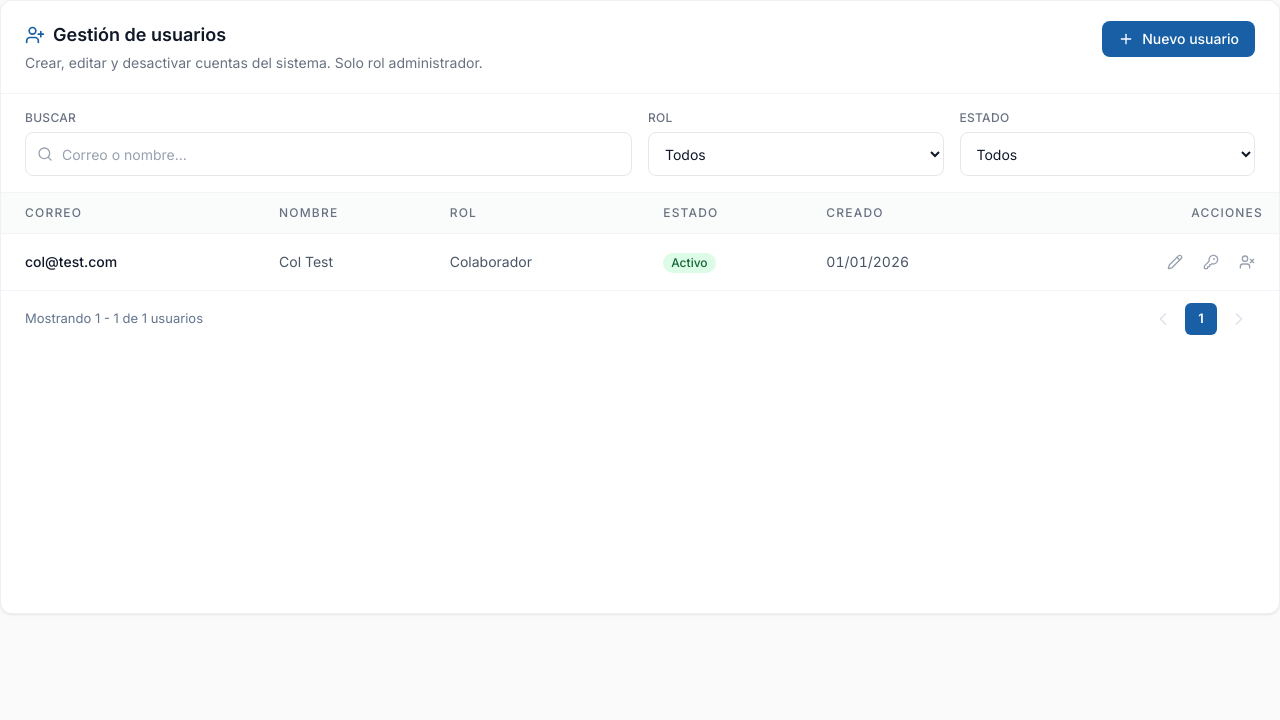
Test: UsuariosAdminPanel › muestra éxito tras actualizar usuario
Click the button named "editar col@test.com" at (1175, 262), box left=1159, top=246, right=1191, bottom=278
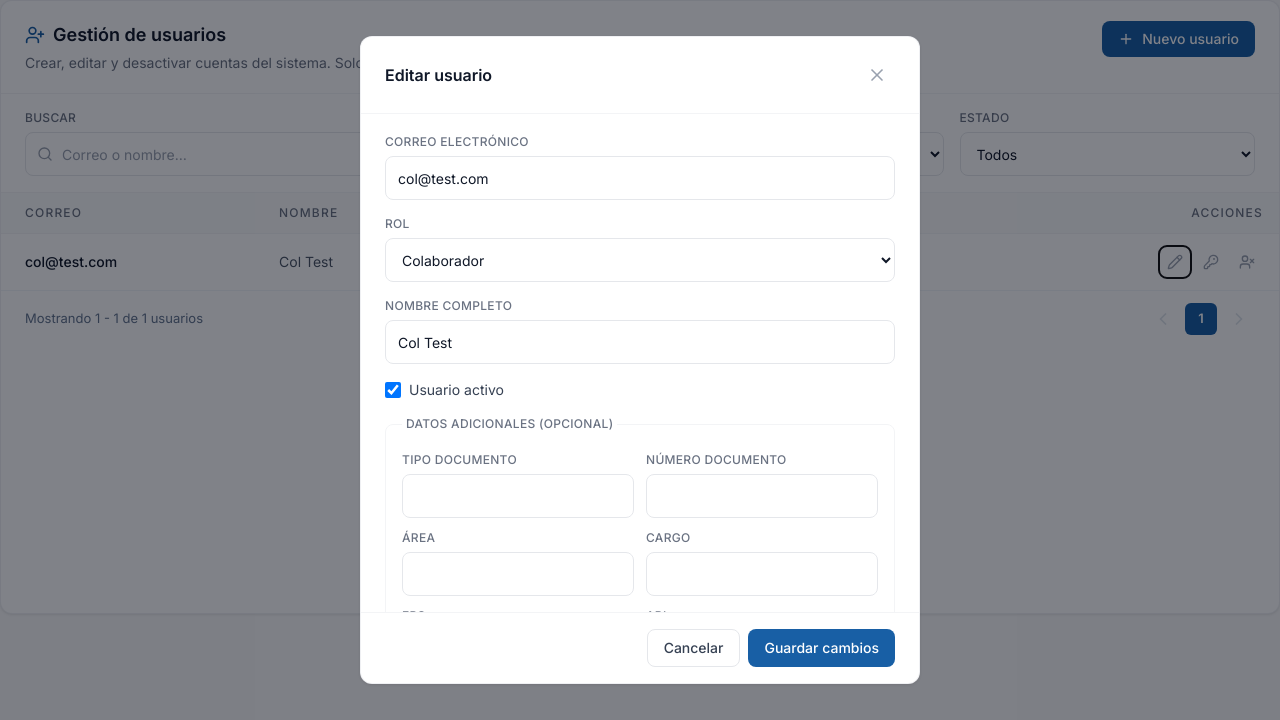
Click the button "Guardar cambios" at (822, 648), box left=748, top=629, right=895, bottom=667
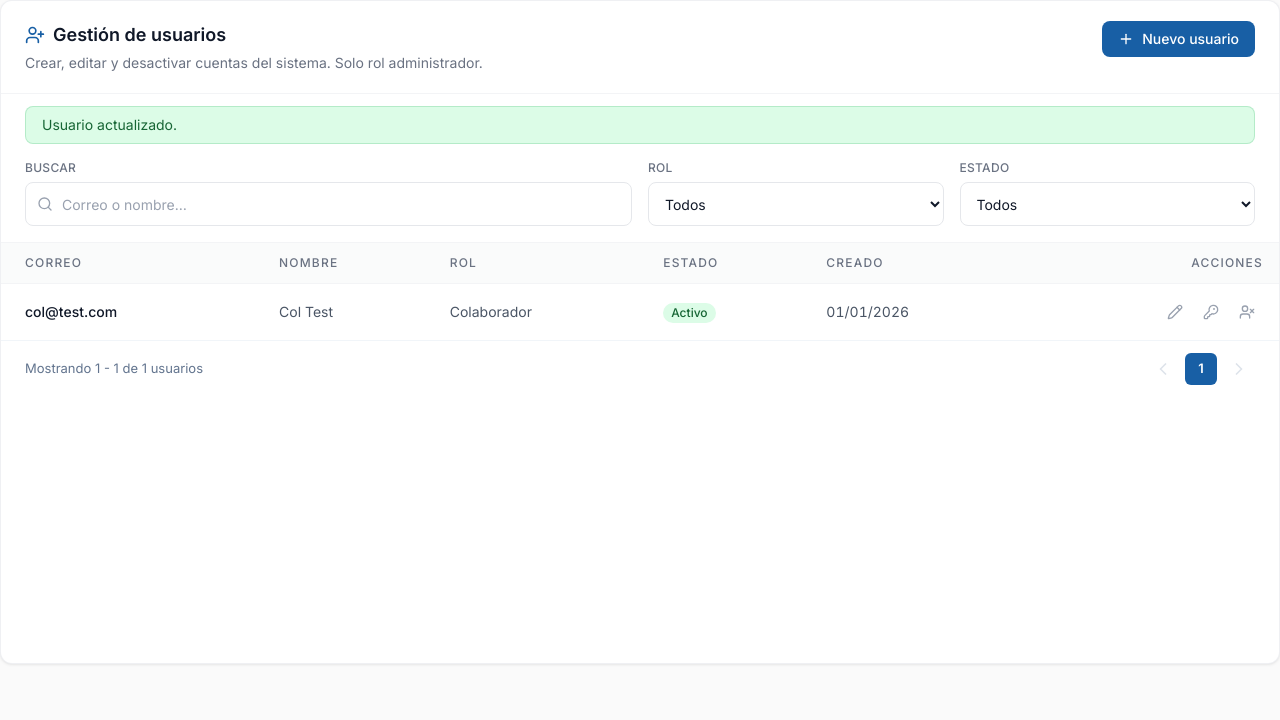
Expected: the text "Usuario actualizado." is shown, left=25, top=106, right=1255, bottom=144
